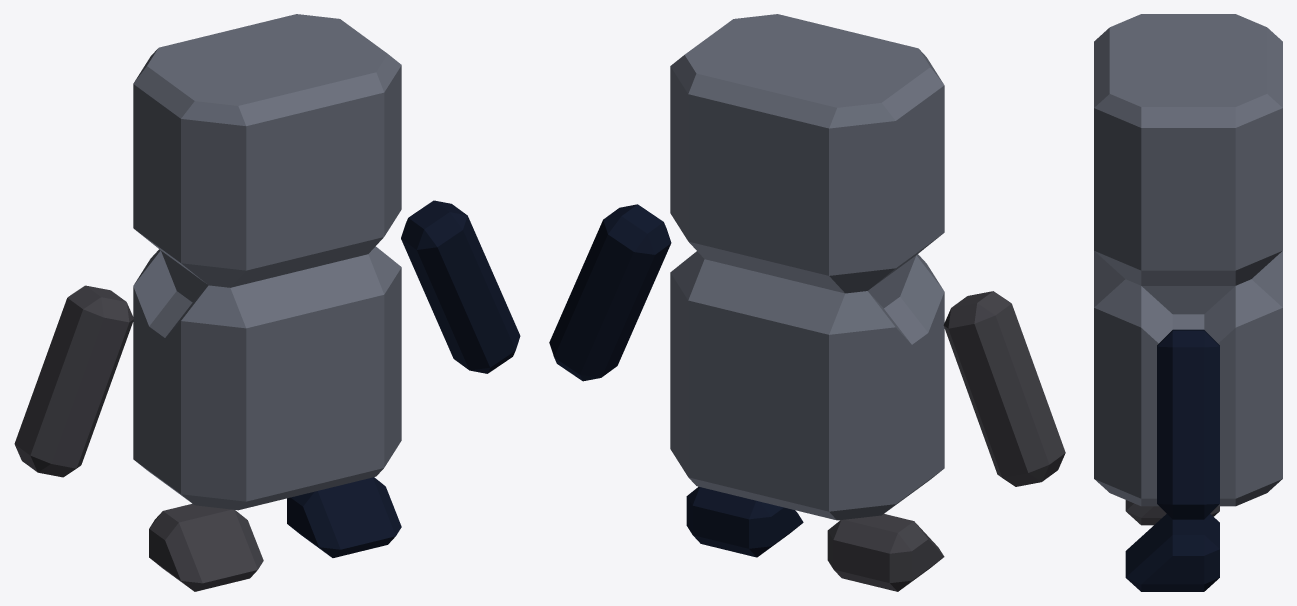
The picture shows the model from 3 angles, left to right: view 1: azimuth 30°, elevation 25°; view 2: azimuth 150°, elevation 25°; view 3: azimuth 270°, elevation 25°; orthographic projection. The views are drawn at different scales.
Visible parts, largest first — view 1: pl0, pl0_node_0, pl0_node_2, pl0_node, pl0_node_1; view 2: pl0, pl0_node_0, pl0_node_2, pl0_node, pl0_node_1; view 3: pl0, pl0_node_2, pl0_node_1, pl0_node.
Boxes of the visible parts, box(x1,y1,x2,y2) form: pl0: box(133, 14, 401, 510); pl0_node_0: box(14, 285, 133, 477); pl0_node_2: box(401, 200, 520, 373); pl0_node: box(149, 503, 263, 591); pl0_node_1: box(287, 477, 401, 557); pl0: box(670, 14, 944, 520); pl0_node_0: box(943, 291, 1065, 486); pl0_node_2: box(549, 204, 671, 381); pl0_node: box(827, 514, 944, 591); pl0_node_1: box(686, 486, 803, 557); pl0: box(1094, 14, 1282, 506); pl0_node_2: box(1157, 329, 1219, 519); pl0_node_1: box(1125, 514, 1219, 591); pl0_node: box(1125, 500, 1219, 525).
Size of the model in its own units: 1.78 by 1.7 by 0.6.
2 materials, 2 textured.
